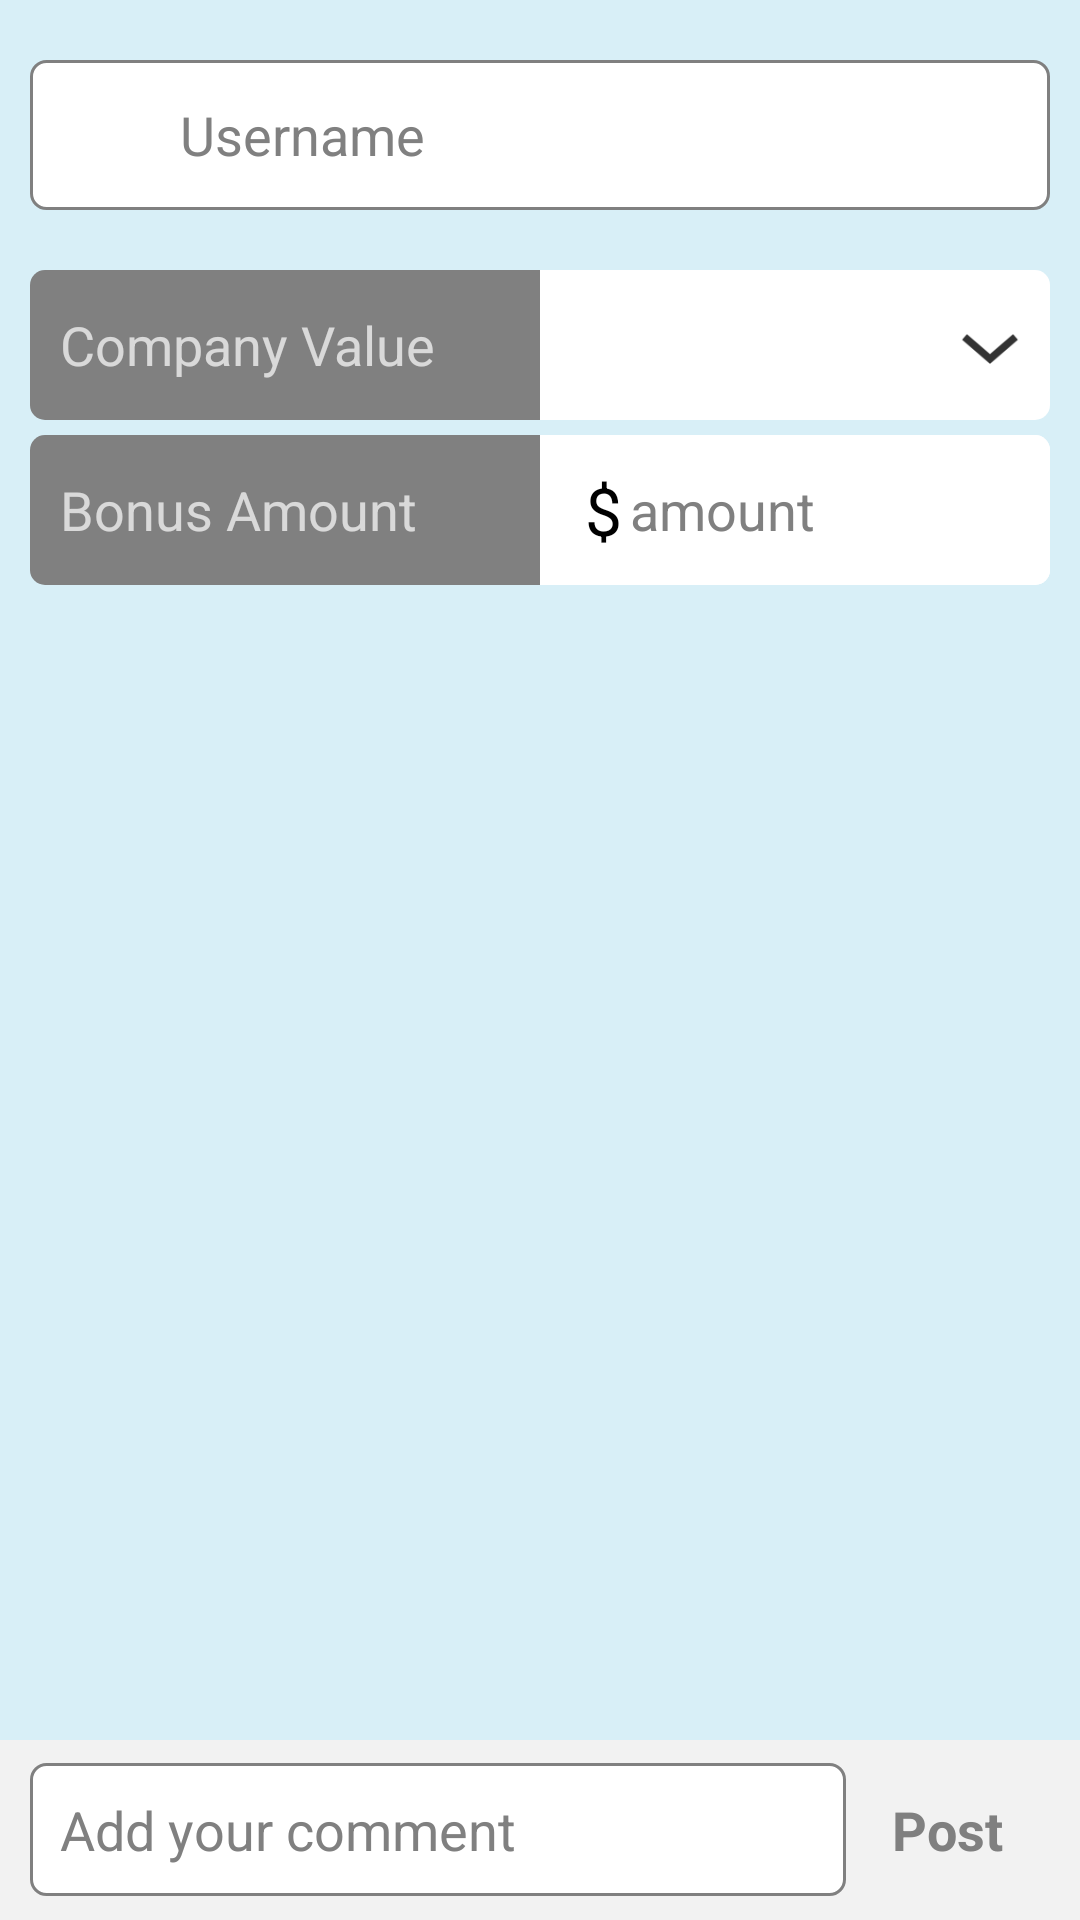

Icons on this 1080*1920 Android screen, each with its box as [x1,y1,x2,y2]:
arrow down: [962,334,1018,364]
